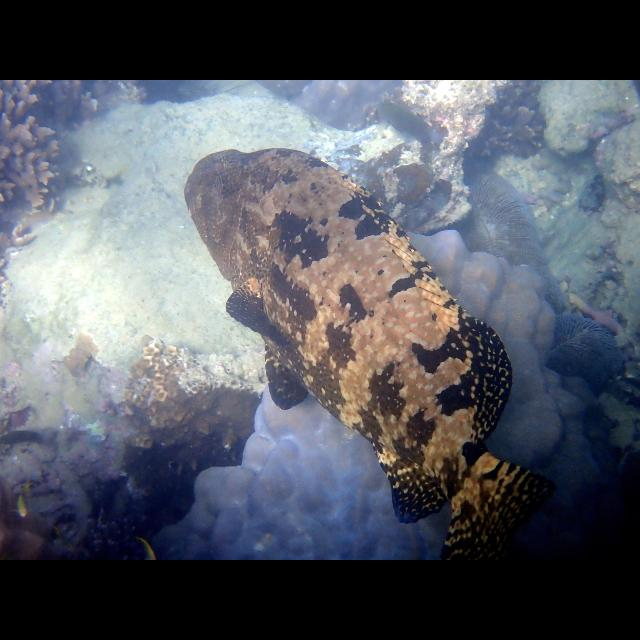Groupers: (180, 146, 558, 560)
